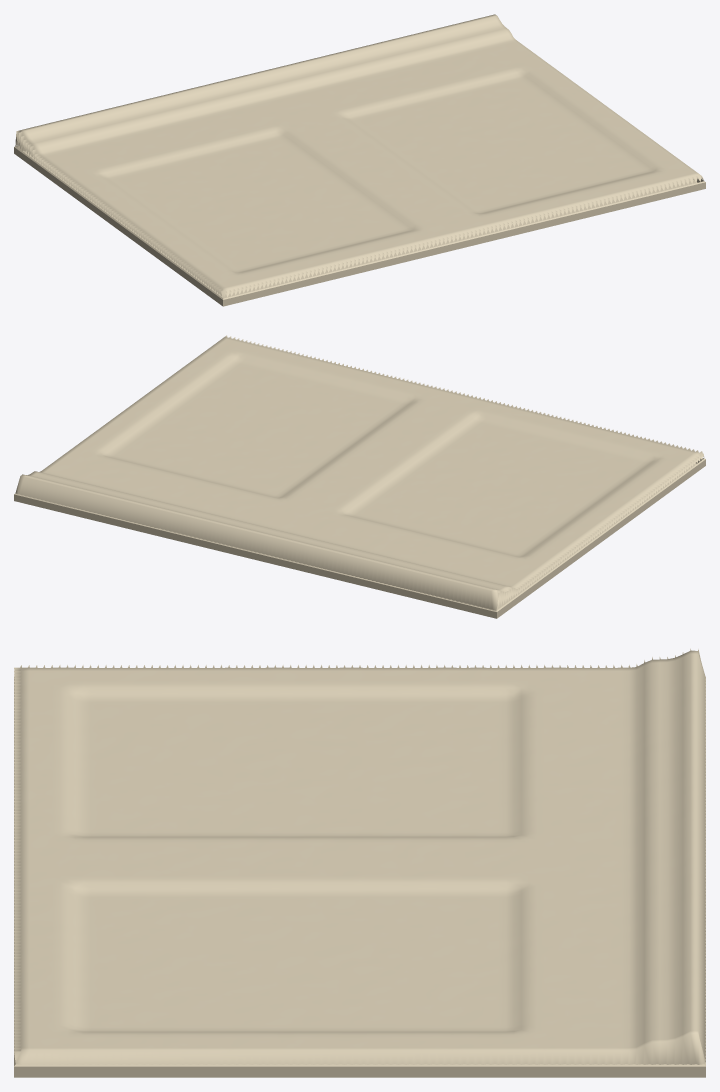
The model's file is mahsulot.glb.
The picture shows the model from 3 angles, top to bottom: view 1: azimuth 30°, elevation 25°; view 2: azimuth 150°, elevation 25°; view 3: azimuth 270°, elevation 25°; orthographic projection. The views are drawn at different scales.
Visible parts, largest first — view 1: mahsulot; view 2: mahsulot; view 3: mahsulot.
Part boxes in pixels (x1,y1,x2,y2): mahsulot: (14, 14, 705, 306); mahsulot: (14, 335, 705, 618); mahsulot: (14, 648, 705, 1077).
Size of the model in its own units: 0.8 by 0.0385 by 0.6.
